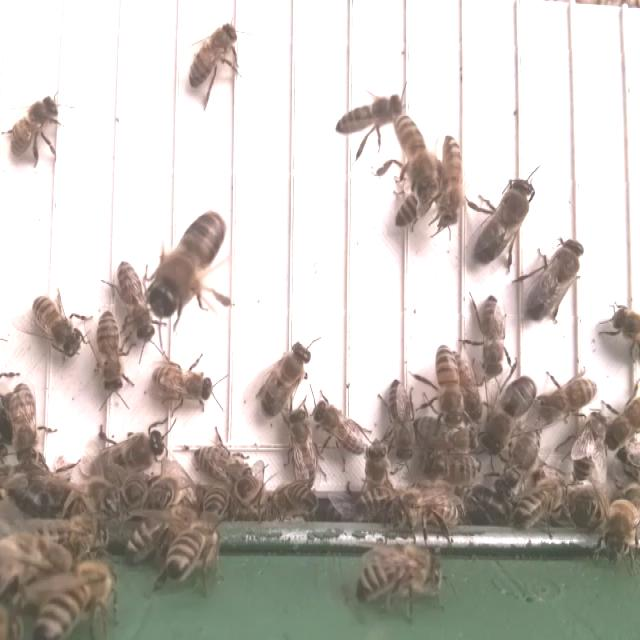Drone: (150, 207, 227, 318), (471, 175, 537, 267), (82, 426, 166, 490), (525, 234, 585, 322), (478, 376, 538, 458), (255, 340, 311, 424)
Worker: (392, 109, 441, 201), (184, 20, 239, 92), (356, 554, 442, 599), (113, 258, 155, 342), (9, 94, 60, 163), (333, 91, 403, 138), (312, 400, 369, 454), (435, 132, 465, 234), (10, 379, 44, 469), (189, 443, 255, 489), (31, 296, 82, 354), (432, 342, 466, 429), (147, 361, 215, 404), (537, 376, 599, 423), (92, 313, 126, 395), (477, 291, 507, 383), (289, 406, 319, 491), (386, 374, 410, 466), (401, 494, 462, 528)
